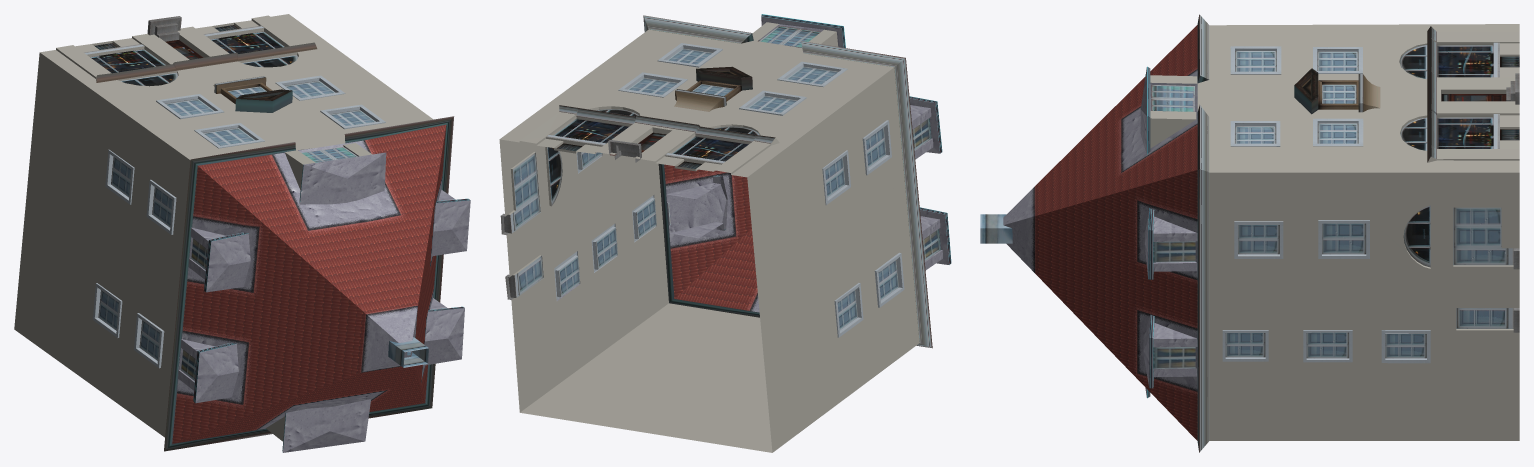
File: Nunne_11.obj
3 views of the same model, side by side, from view 1: azimuth 30°, elevation 25°; view 2: azimuth 150°, elevation 25°; view 3: azimuth 270°, elevation 25° (orthographic). The views are drawn at different scales.
Parts seen in each view (by area): view 1: Line001; view 2: Line001; view 3: Line001.
Part boxes in pixels (x1,y1,x2,y2): Line001: (14,14,470,452); Line001: (499,14,951,452); Line001: (980,14,1519,452).
Bounding box in the file's own units: 13.8 × 13.96 × 21.5.
Materials: 1 (1 with a texture image).
